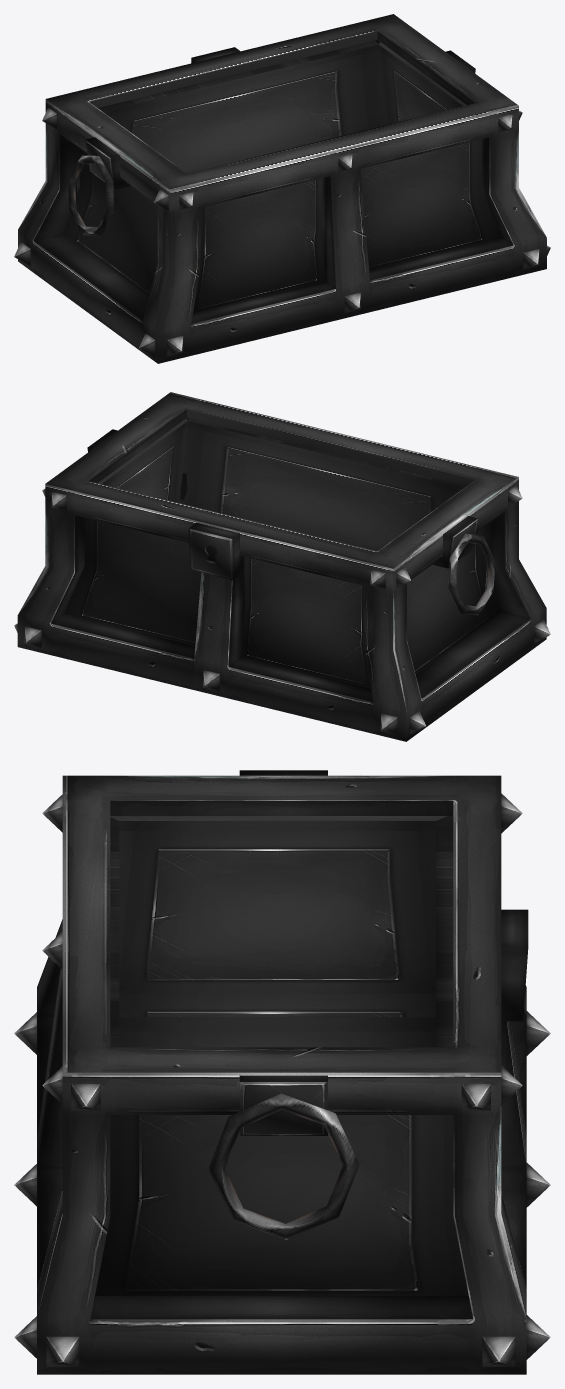
File: metal2bottom.fbx
3 renders of one model, top to bottom at view 1: azimuth 30°, elevation 25°; view 2: azimuth 150°, elevation 25°; view 3: azimuth 270°, elevation 25°, orthographic. The views are drawn at different scales.
Visible parts, largest first — view 1: Mesh; view 2: Mesh; view 3: Mesh.
Boxes of the visible parts, <box> form: Mesh: <box>14,14,550,363</box>; Mesh: <box>14,392,550,741</box>; Mesh: <box>14,770,550,1374</box>.
Bounding box in the file's own units: 14.01 × 5.29 × 9.04.
